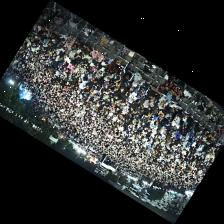person: (122, 57, 134, 81), (159, 91, 172, 108), (108, 59, 122, 74), (172, 110, 182, 130), (162, 114, 172, 131), (133, 72, 145, 86), (153, 98, 163, 114), (92, 49, 104, 62), (166, 101, 179, 113), (149, 87, 160, 101), (180, 111, 190, 126), (112, 69, 121, 85), (80, 44, 92, 56), (193, 122, 203, 136), (129, 88, 138, 102), (189, 124, 196, 142), (139, 81, 150, 92), (77, 56, 88, 67), (137, 88, 149, 98), (135, 103, 144, 116), (144, 94, 153, 107), (58, 33, 69, 43), (128, 80, 138, 91), (119, 81, 129, 92), (187, 117, 195, 130), (50, 30, 61, 39), (84, 52, 93, 63), (177, 128, 184, 142), (172, 128, 179, 141), (102, 56, 112, 65), (62, 42, 72, 51), (129, 100, 138, 110), (104, 72, 115, 80), (96, 67, 105, 76), (112, 82, 121, 91), (69, 49, 77, 59), (92, 62, 102, 70), (139, 97, 145, 109), (185, 131, 191, 143), (68, 34, 77, 42), (166, 133, 172, 145), (76, 67, 86, 74), (47, 26, 53, 37), (168, 74, 176, 82), (87, 62, 94, 71), (74, 48, 81, 57), (63, 57, 71, 64), (212, 138, 219, 146), (48, 39, 57, 45), (123, 104, 129, 113), (64, 50, 71, 57)
